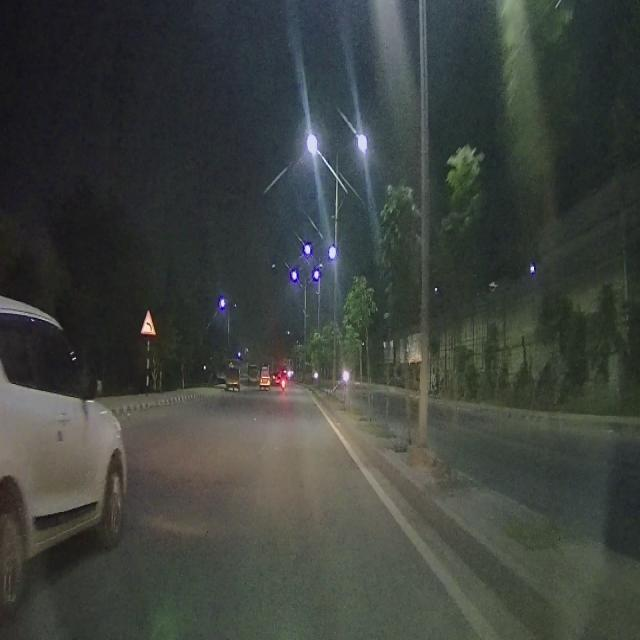car ahead at: (0, 288, 131, 602)
